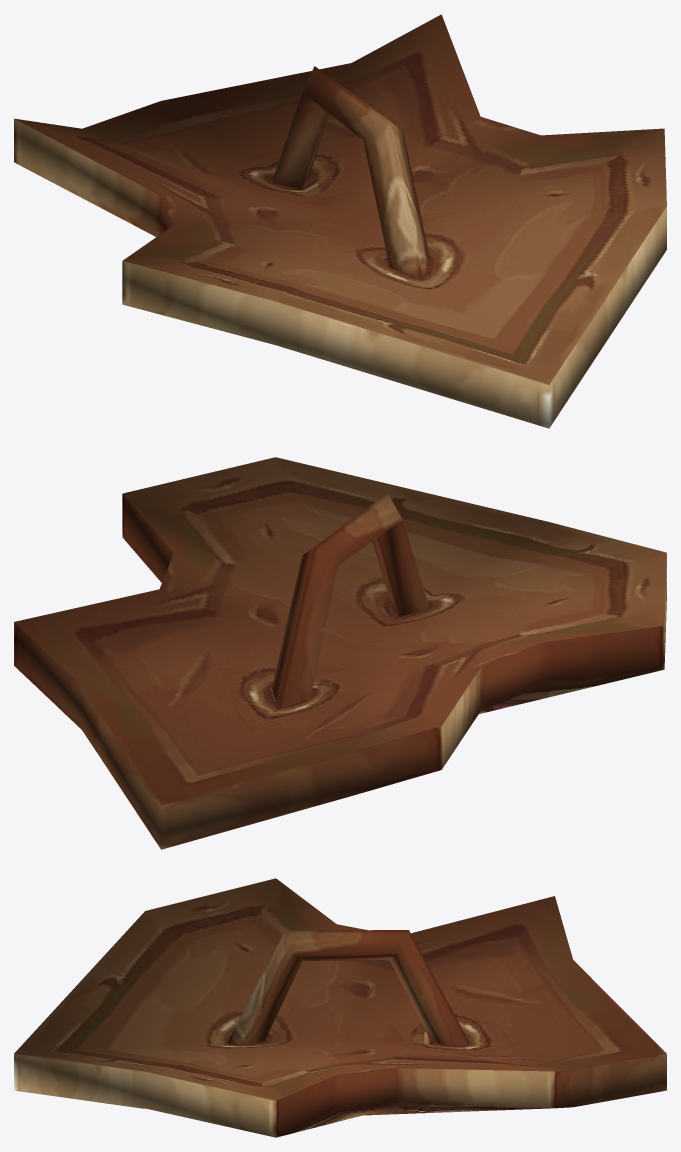
File: weapon21003.FBX
The picture shows the model from 3 angles, top to bottom: view 1: azimuth 30°, elevation 25°; view 2: azimuth 150°, elevation 25°; view 3: azimuth 270°, elevation 25°; orthographic projection. The views are drawn at different scales.
Visible parts, largest first — view 1: Wep_Dun_03; view 2: Wep_Dun_03; view 3: Wep_Dun_03.
Boxes of the visible parts, x1,y1,x2,y2 form: Wep_Dun_03: (14, 14, 666, 428); Wep_Dun_03: (14, 457, 666, 849); Wep_Dun_03: (14, 878, 666, 1137).
Size of the model in its own units: 27.91 by 10.85 by 34.6.
1 material, 1 textured.
